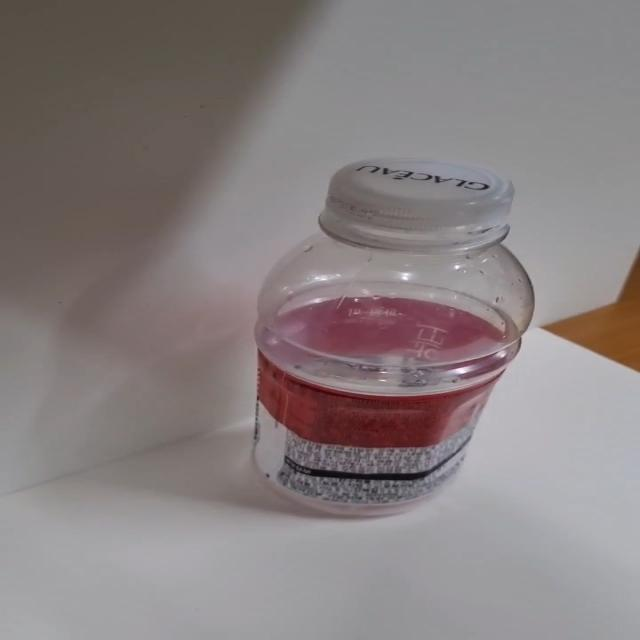Plastic: (250, 156, 536, 522)
